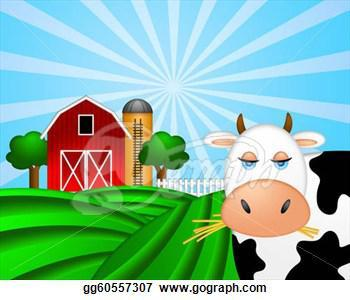cow: (193, 107, 347, 278)
